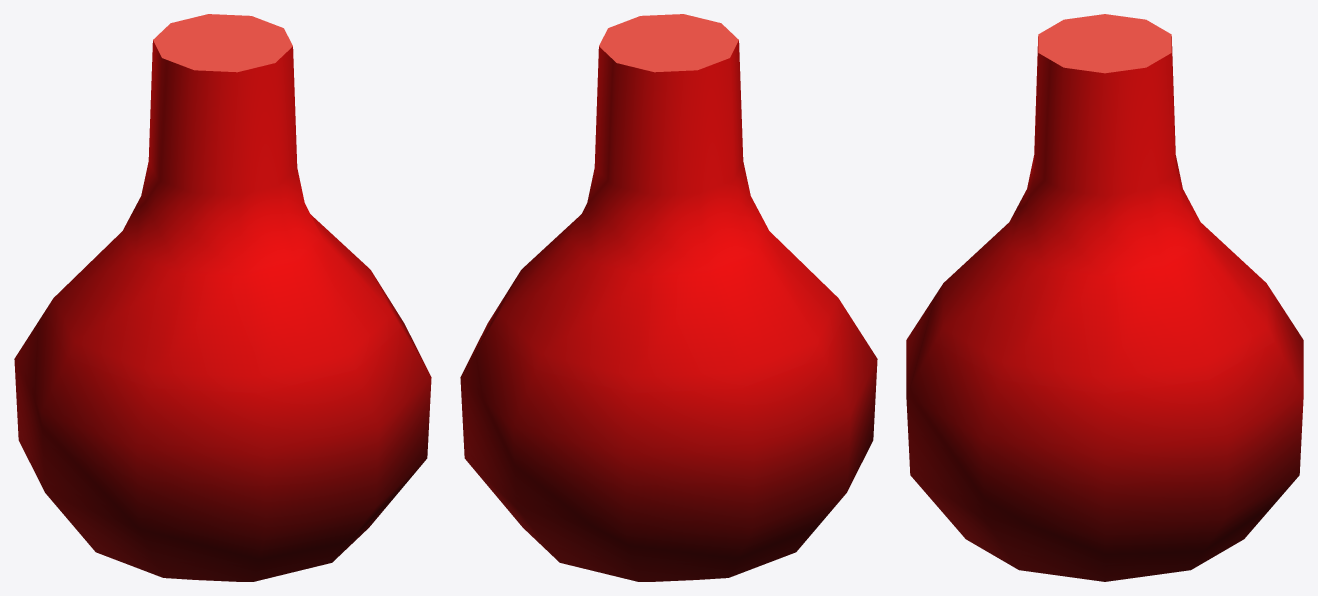
Rendered from Potion_Special_C_Liquid.fbx.
3 views of the same model, side by side, from view 1: azimuth 30°, elevation 25°; view 2: azimuth 150°, elevation 25°; view 3: azimuth 270°, elevation 25° (orthographic).
Parts seen in each view (by area): view 1: Potion_Special_C_Liquid; view 2: Potion_Special_C_Liquid; view 3: Potion_Special_C_Liquid.
Boxes of the visible parts, x1,y1,x2,y2 form: Potion_Special_C_Liquid: (14, 14, 431, 581); Potion_Special_C_Liquid: (460, 14, 877, 581); Potion_Special_C_Liquid: (906, 14, 1303, 581).
Size of the model in its own units: 45.74 by 61.38 by 43.5.
